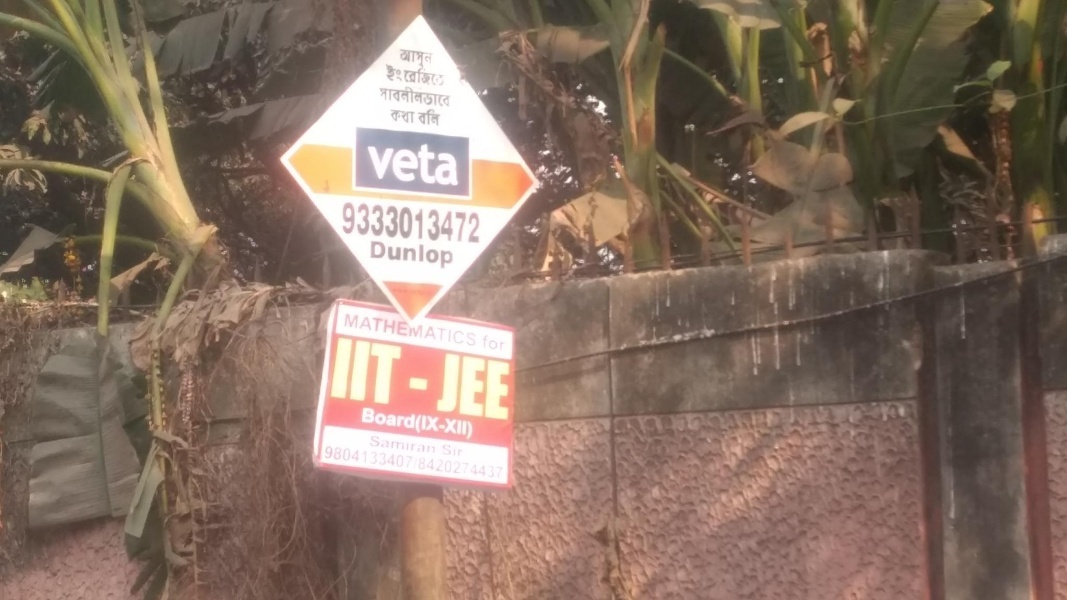text: (353, 336, 368, 406), (369, 336, 384, 406), (385, 336, 400, 406), (449, 352, 464, 421), (465, 352, 480, 421), (481, 352, 496, 421), (497, 352, 512, 421), (338, 336, 352, 406), (465, 198, 481, 246), (353, 198, 368, 246), (369, 198, 384, 246), (385, 198, 400, 246), (401, 198, 416, 246), (417, 198, 432, 246), (433, 198, 448, 246), (449, 198, 464, 246), (369, 139, 384, 186), (385, 139, 400, 186), (401, 139, 416, 186), (417, 139, 432, 186), (433, 139, 448, 186), (353, 312, 368, 351), (369, 312, 384, 351), (385, 312, 400, 351), (401, 312, 416, 351), (417, 312, 432, 351), (433, 312, 448, 351), (449, 312, 464, 351), (465, 312, 480, 351), (321, 445, 336, 484), (337, 445, 352, 484), (353, 445, 368, 484), (369, 445, 384, 484), (385, 445, 400, 484), (401, 445, 416, 484), (417, 445, 432, 484), (433, 445, 448, 484), (449, 445, 464, 484), (465, 445, 480, 484), (481, 445, 496, 484), (449, 139, 461, 186), (385, 240, 400, 272), (401, 240, 416, 272), (417, 240, 432, 272), (433, 240, 448, 272), (343, 198, 352, 246), (497, 445, 508, 484), (433, 413, 448, 441), (449, 413, 464, 441), (371, 240, 384, 272), (418, 413, 432, 441), (342, 312, 352, 351), (385, 83, 400, 108), (401, 83, 416, 108), (417, 83, 432, 108), (433, 83, 448, 108), (369, 406, 384, 430), (385, 406, 400, 430), (401, 406, 416, 430), (385, 64, 400, 87), (401, 64, 416, 87), (417, 64, 432, 87), (433, 64, 448, 87), (401, 48, 416, 70), (417, 48, 432, 70), (465, 413, 476, 441), (385, 436, 400, 455), (401, 436, 416, 455), (417, 436, 432, 455), (401, 336, 405, 406), (444, 352, 448, 421), (481, 334, 496, 352), (417, 109, 432, 127), (401, 107, 415, 124), (372, 436, 384, 455), (449, 443, 465, 457), (417, 376, 430, 392), (364, 139, 368, 186), (377, 83, 384, 108), (390, 107, 400, 124), (497, 334, 506, 352), (433, 109, 442, 127), (449, 240, 454, 272), (449, 83, 455, 108), (363, 406, 368, 430), (410, 376, 416, 392), (433, 436, 438, 455), (513, 352, 514, 421), (444, 443, 448, 457), (417, 406, 419, 430), (398, 48, 400, 70)
